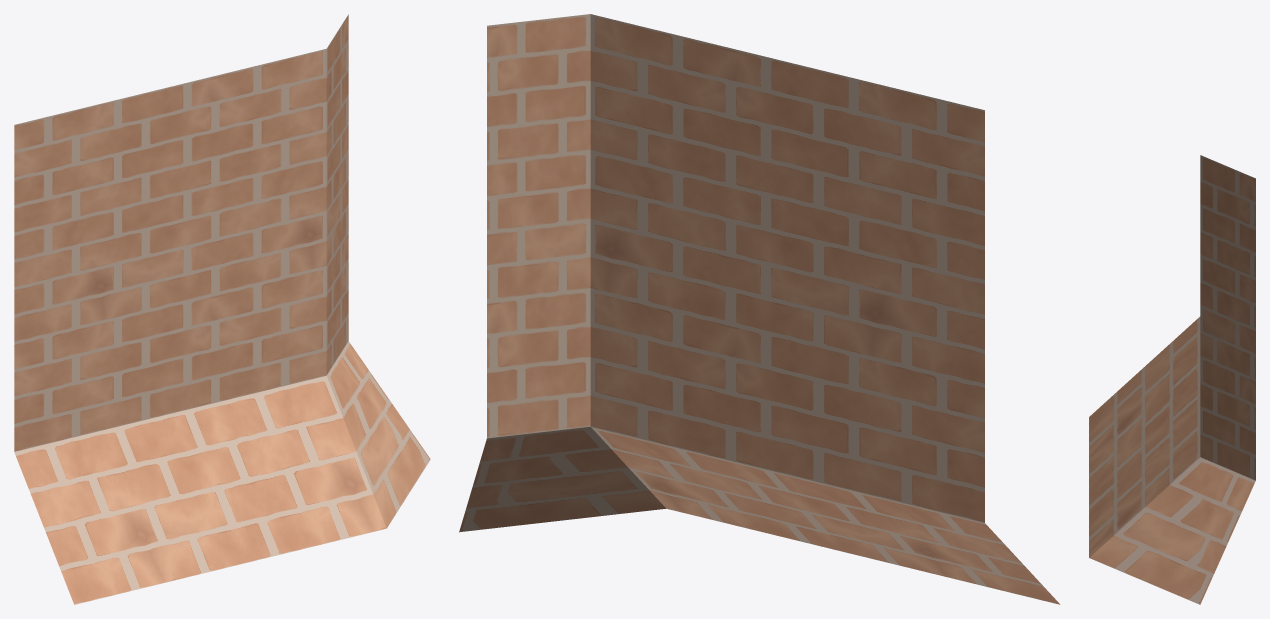
The model's file is Bot_Temp_Wall_Cor_L.fbx.
3 renders of one model, left to right at view 1: azimuth 30°, elevation 25°; view 2: azimuth 150°, elevation 25°; view 3: azimuth 270°, elevation 25°, orthographic. The views are drawn at different scales.
Visible parts, largest first — view 1: Bot_Temp_Wall_Cor_L; view 2: Bot_Temp_Wall_Cor_L; view 3: Bot_Temp_Wall_Cor_L.
Part boxes in pixels (left/top/right/bottom): Bot_Temp_Wall_Cor_L: left=14, top=14, right=430, bottom=604; Bot_Temp_Wall_Cor_L: left=459, top=14, right=1060, bottom=604; Bot_Temp_Wall_Cor_L: left=1089, top=155, right=1255, bottom=604.
Size of the model in its own units: 100 by 100 by 37.5.
1 material, 1 textured.
